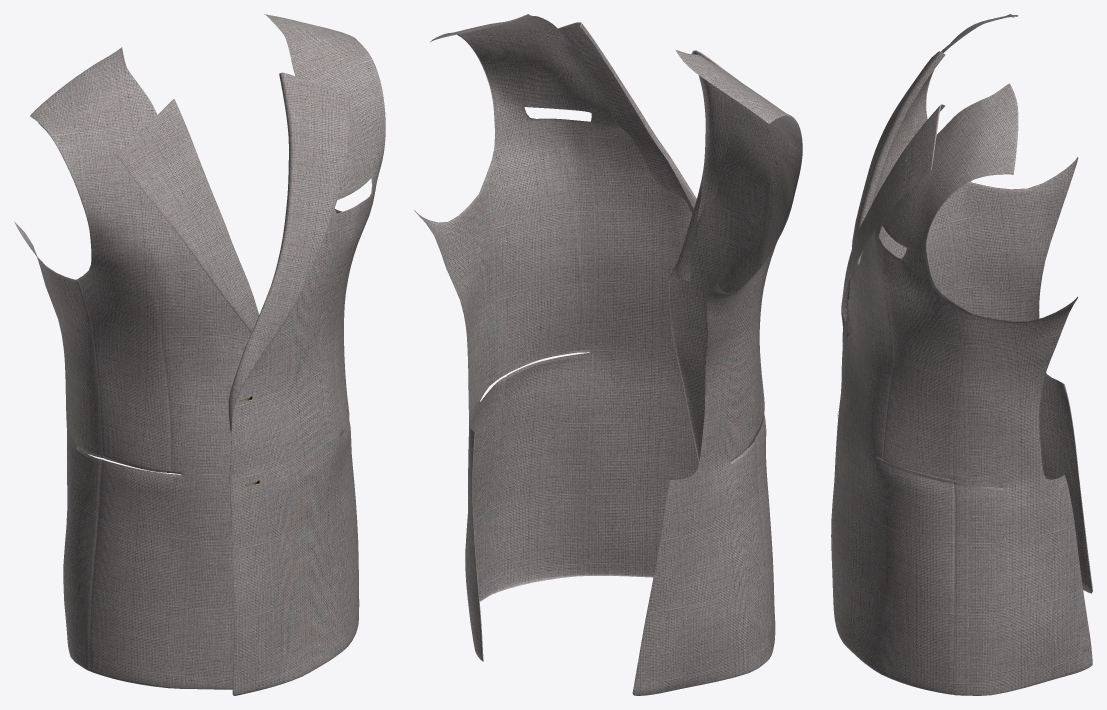
The model's file is noch_double_breasted.glb.
3 renders of one model, left to right at view 1: azimuth 30°, elevation 25°; view 2: azimuth 150°, elevation 25°; view 3: azimuth 270°, elevation 25°, orthographic. The views are drawn at different scales.
Parts seen in each view (by area): view 1: noch_double_breasted; view 2: noch_double_breasted; view 3: noch_double_breasted.
Part boxes in pixels (x1,y1,x2,y2): noch_double_breasted: (14, 14, 385, 695); noch_double_breasted: (414, 14, 802, 695); noch_double_breasted: (831, 14, 1092, 695).
Size of the model in its own units: 0.0585 by 0.1017 by 0.0414.
2 materials, 2 textured.
